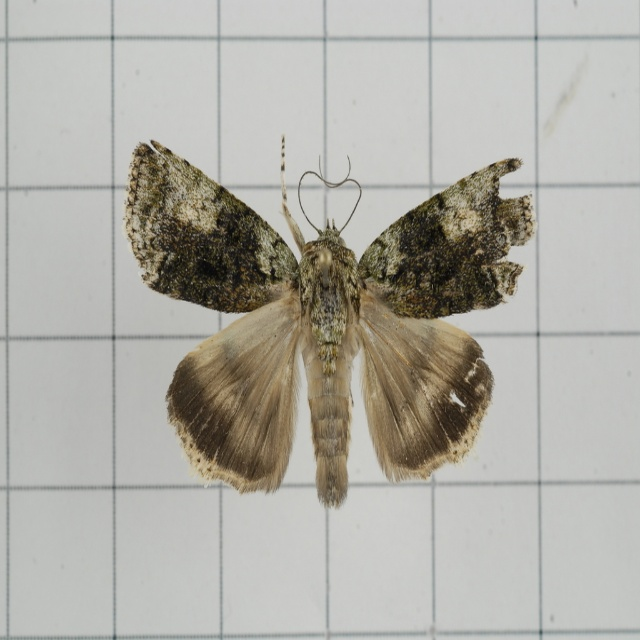Butterfly: (123, 141, 536, 505)
